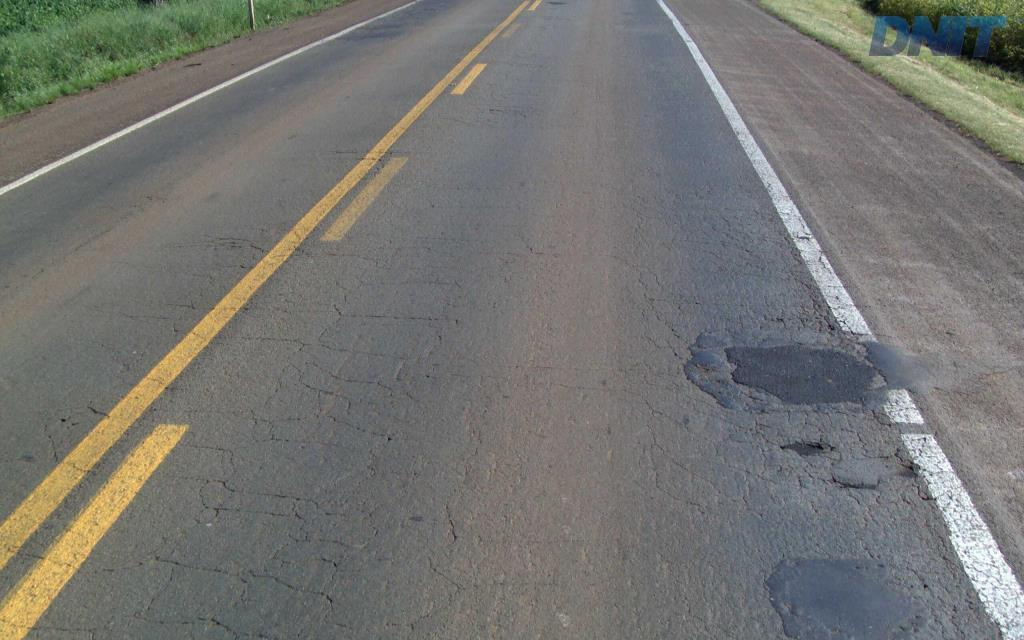crack: (236, 549, 329, 600), (764, 394, 870, 417), (877, 447, 920, 482), (808, 290, 838, 338), (817, 472, 882, 491), (779, 437, 836, 458)
